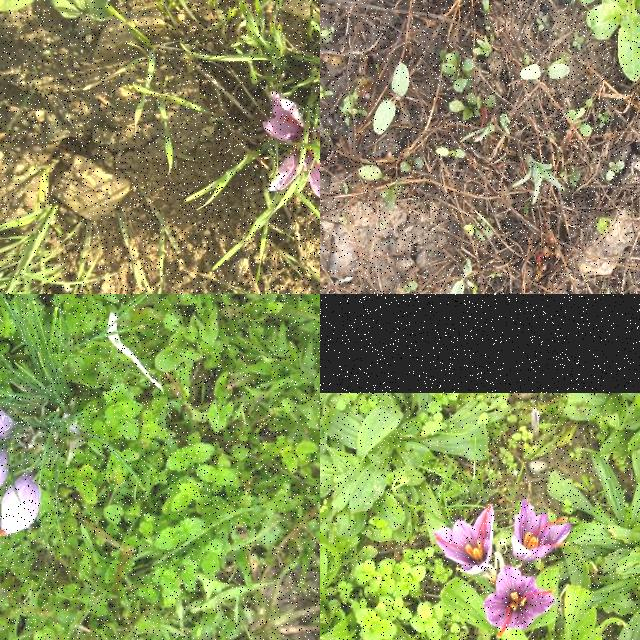flower: (485, 566, 557, 640), (269, 100, 320, 198), (433, 504, 495, 574), (511, 499, 574, 559), (0, 474, 40, 540), (0, 447, 11, 502), (0, 406, 15, 443)
